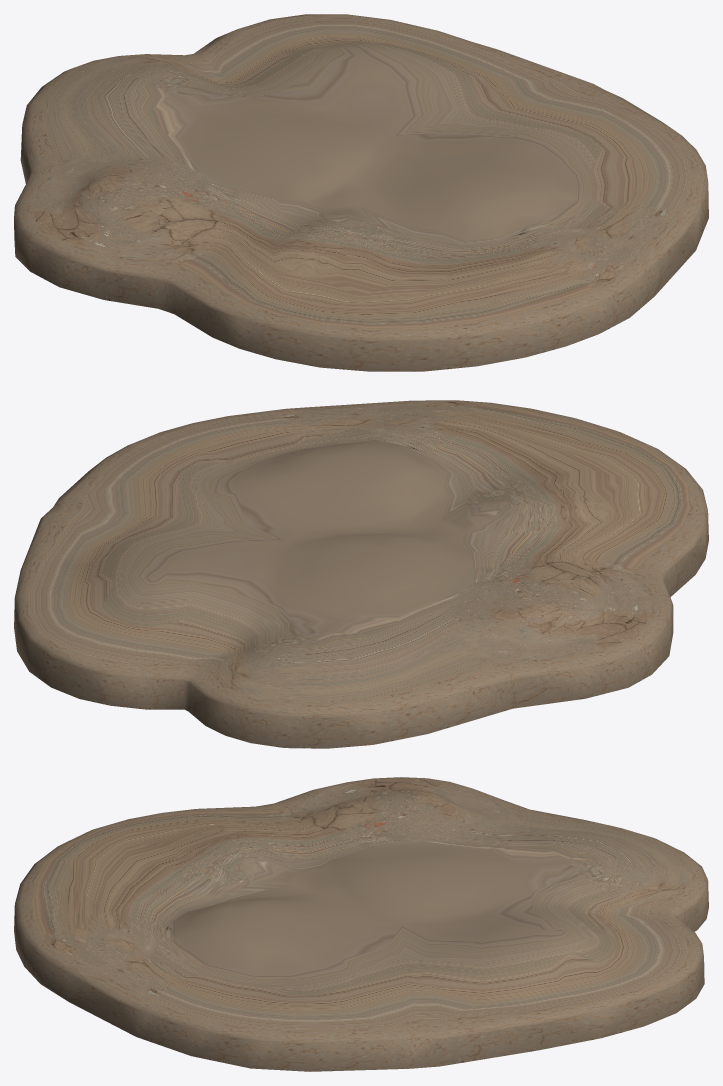
Rendered from saltmine_floor_sand_cracked_03.dae.
3 renders of one model, top to bottom at view 1: azimuth 30°, elevation 25°; view 2: azimuth 150°, elevation 25°; view 3: azimuth 270°, elevation 25°, orthographic. The views are drawn at different scales.
Visible parts, largest first — view 1: floor_03_cracked_sand; view 2: floor_03_cracked_sand; view 3: floor_03_cracked_sand.
Boxes of the visible parts, x1,y1,x2,y2 form: floor_03_cracked_sand: [14, 14, 708, 371]; floor_03_cracked_sand: [14, 400, 708, 748]; floor_03_cracked_sand: [14, 777, 708, 1071].
Size of the model in its own units: 5.11 by 0.4929 by 5.63.
